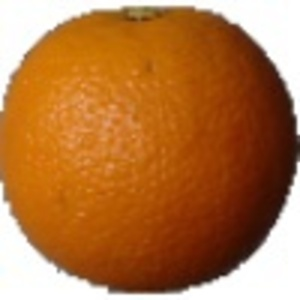laranja: (3, 5, 299, 295)
